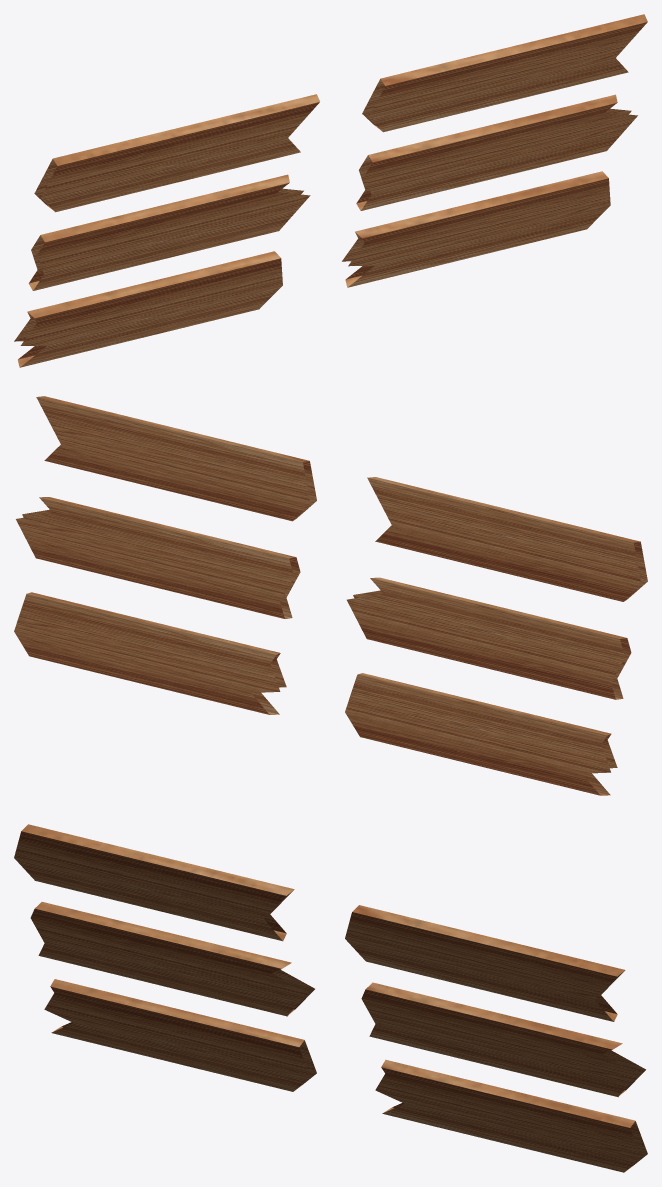
Rendered from yizi3.FBX.
The picture shows the model from 3 angles, top to bottom: view 1: azimuth 30°, elevation 25°; view 2: azimuth 150°, elevation 25°; view 3: azimuth 330°, elevation 25°; orthographic projection.
Visible parts, largest first — view 1: 1, 2; view 2: 2, 1; view 3: 1, 2.
Part boxes in pixels (<box>): 1: <box>342,14,647,287</box>; 2: <box>14,94,319,367</box>; 2: <box>345,477,647,795</box>; 1: <box>14,396,316,714</box>; 1: <box>345,905,647,1172</box>; 2: <box>14,824,316,1091</box>.
Size of the model in its own units: 115 by 41.25 by 12.99.
